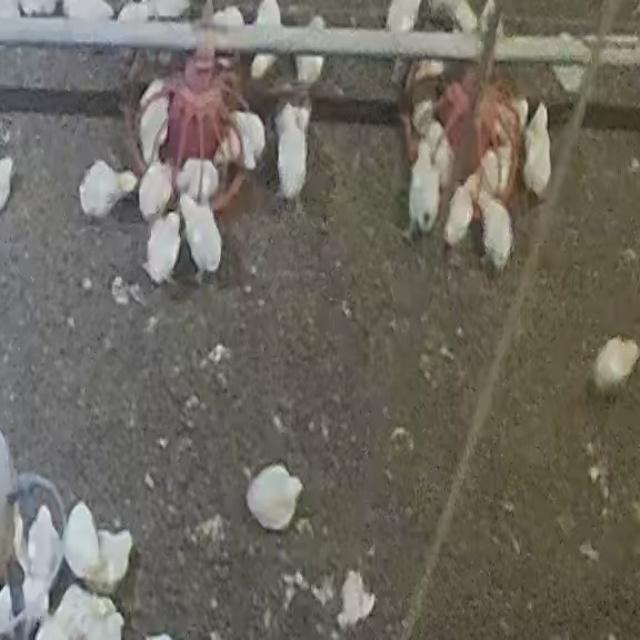chicken: (34, 584, 126, 638), (244, 462, 307, 532), (21, 503, 61, 597), (77, 158, 137, 220), (181, 195, 225, 278), (274, 102, 310, 200), (474, 185, 514, 272), (61, 501, 100, 587), (521, 101, 553, 200), (444, 169, 482, 250), (143, 210, 183, 284), (408, 137, 438, 235), (93, 528, 135, 592), (594, 336, 640, 394), (137, 90, 170, 166), (231, 108, 267, 174), (137, 159, 175, 221), (176, 157, 221, 204)
